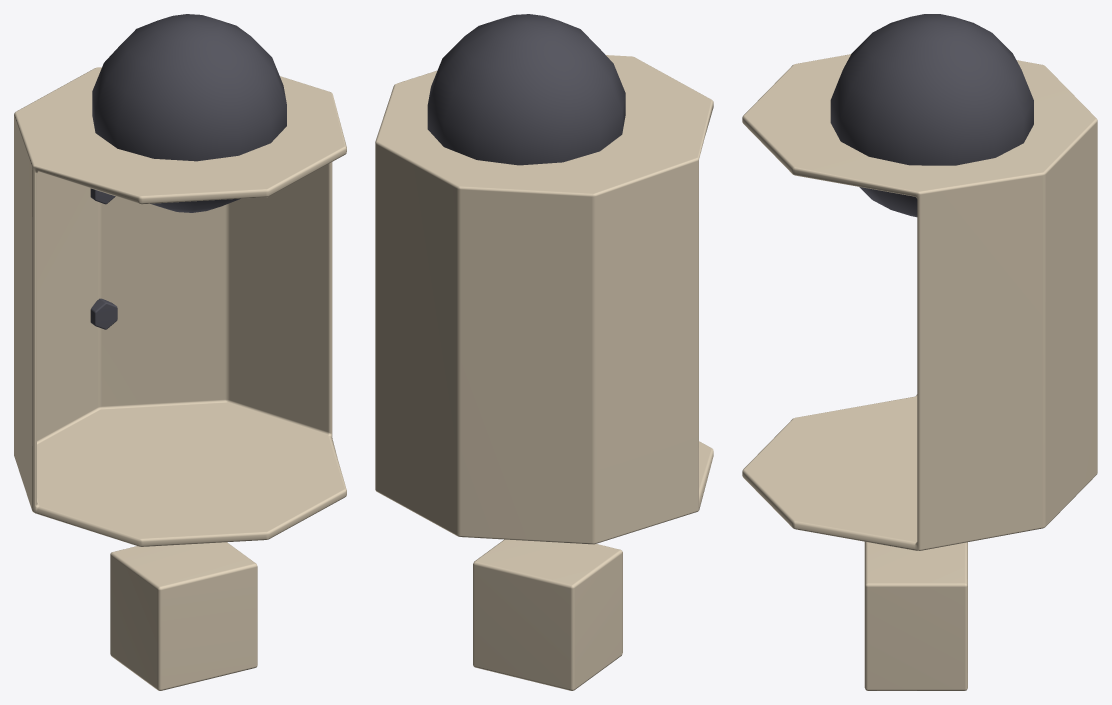
The model's file is kitbash_shell_arm_left_001_lower.glb.
3 views of the same model, side by side, from view 1: azimuth 30°, elevation 25°; view 2: azimuth 150°, elevation 25°; view 3: azimuth 270°, elevation 25° (orthographic). The views are drawn at different scales.
Visible parts, largest first — view 1: SHELL_armL_lo; view 2: SHELL_armL_lo; view 3: SHELL_armL_lo.
Part boxes in pixels (x1,y1,x2,y2): SHELL_armL_lo: [14, 14, 346, 690]; SHELL_armL_lo: [375, 14, 713, 690]; SHELL_armL_lo: [742, 14, 1097, 690].
Bounding box in the file's own units: 0.4498 × 0.905 × 0.448.
